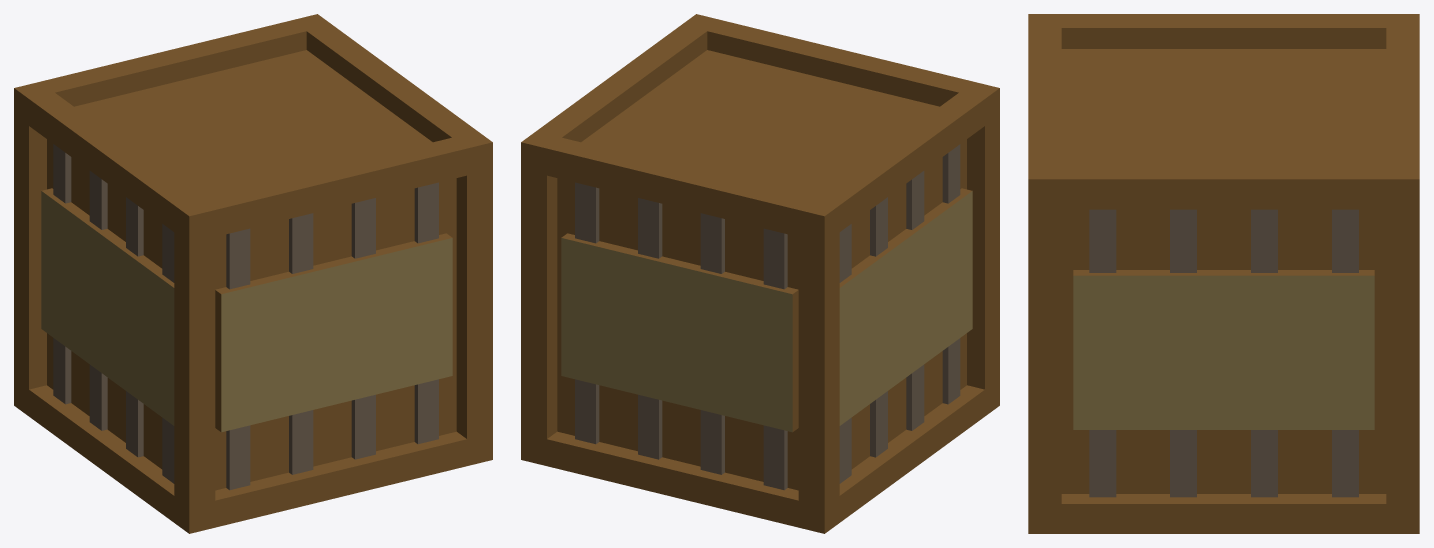
File: SM_NormalBox.fbx
The picture shows the model from 3 angles, left to right: view 1: azimuth 30°, elevation 25°; view 2: azimuth 150°, elevation 25°; view 3: azimuth 270°, elevation 25°; orthographic projection. The views are drawn at different scales.
Parts seen in each view (by area): view 1: SM_NormalBox_Part2; view 2: SM_NormalBox_Part2; view 3: SM_NormalBox_Part2.
Part boxes in pixels (left/top/right/bottom): SM_NormalBox_Part2: left=14, top=14, right=492, bottom=533; SM_NormalBox_Part2: left=521, top=14, right=999, bottom=533; SM_NormalBox_Part2: left=1028, top=14, right=1419, bottom=533.
Size of the model in its own units: 150 by 150 by 150.
